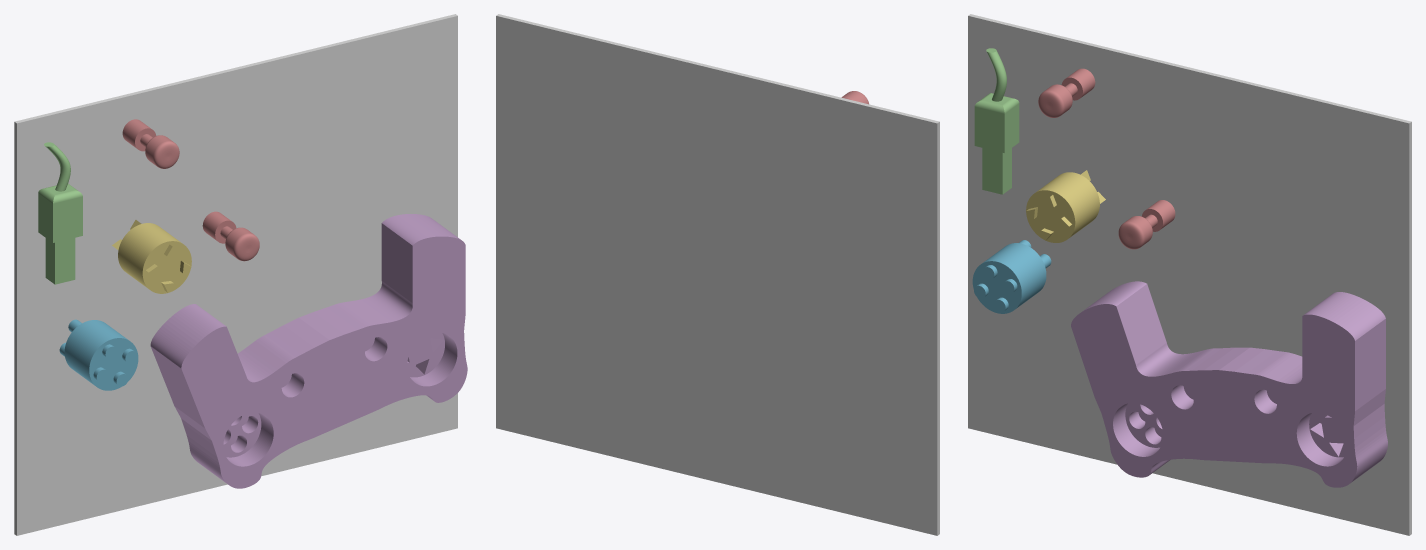
File: pickup_layout.glb
3 views of the same model, side by side, from view 1: azimuth 30°, elevation 25°; view 2: azimuth 150°, elevation 25°; view 3: azimuth 330°, elevation 25° (orthographic).
Parts seen in each view (by area): view 1: world, 3.obj, 4.obj, 2.obj, 1.obj, 5.obj, 0.obj; view 2: world; view 3: world, 3.obj, 4.obj, 2.obj, 1.obj, 5.obj, 0.obj.
Boxes of the visible parts, <box> form: world: <box>14,14,457,535</box>; 3.obj: <box>150,214,467,488</box>; 4.obj: <box>38,142,82,284</box>; 2.obj: <box>59,319,138,390</box>; 1.obj: <box>112,220,191,293</box>; 5.obj: <box>122,119,179,168</box>; 0.obj: <box>202,211,259,261</box>; world: <box>496,14,939,535</box>; world: <box>968,14,1411,535</box>; 3.obj: <box>1071,281,1387,487</box>; 4.obj: <box>974,48,1019,194</box>; 2.obj: <box>972,240,1051,313</box>; 1.obj: <box>1026,170,1105,242</box>; 5.obj: <box>1038,68,1095,117</box>; 0.obj: <box>1118,200,1175,249</box>.
Size of the model in its own units: 20.65 by 18.44 by 3.2.
